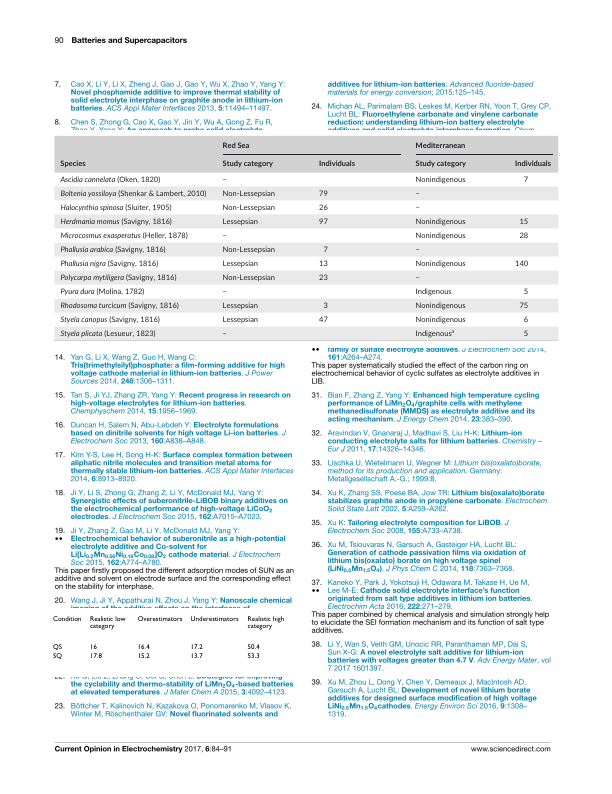borderless: (52, 135, 559, 342), (47, 613, 287, 671)
cell: (59, 188, 206, 200), (59, 230, 188, 242), (59, 300, 179, 312), (59, 272, 177, 284), (59, 202, 172, 214), (59, 216, 172, 228), (59, 244, 166, 256), (59, 174, 160, 186), (59, 314, 160, 326), (59, 258, 158, 270), (59, 328, 156, 340), (59, 286, 144, 298), (414, 139, 465, 152), (221, 188, 275, 200), (221, 202, 275, 214), (221, 244, 275, 256), (221, 272, 275, 284), (221, 158, 273, 170), (414, 158, 466, 170), (414, 174, 466, 186), (414, 216, 466, 228), (414, 230, 466, 242), (414, 258, 466, 270), (414, 300, 466, 312), (414, 314, 466, 326), (246, 615, 285, 631), (88, 615, 126, 631), (414, 327, 454, 340), (414, 286, 452, 298), (189, 615, 239, 624), (221, 216, 258, 228), (221, 258, 258, 270), (221, 300, 258, 312), (221, 314, 258, 326), (136, 615, 183, 624), (221, 139, 250, 152), (59, 158, 86, 170), (317, 160, 355, 168), (513, 160, 551, 168), (52, 615, 82, 624), (317, 188, 328, 200), (317, 202, 328, 214), (317, 216, 328, 228), (136, 643, 150, 652), (189, 643, 203, 652), (246, 643, 260, 652), (88, 652, 102, 661), (136, 652, 150, 661), (189, 652, 203, 661), (246, 652, 260, 661), (513, 261, 528, 268), (52, 643, 62, 652), (52, 652, 62, 661), (88, 643, 97, 652), (317, 261, 328, 268), (317, 275, 328, 282), (317, 317, 328, 324), (522, 314, 528, 326), (518, 219, 528, 226), (518, 233, 528, 240), (518, 303, 528, 310), (221, 177, 227, 184), (522, 177, 528, 184), (414, 191, 420, 198), (414, 205, 420, 212), (221, 233, 227, 240), (322, 247, 328, 254), (414, 247, 420, 254), (414, 275, 420, 282), (221, 289, 227, 296), (522, 289, 528, 296), (322, 303, 328, 310), (221, 331, 227, 338), (522, 331, 528, 338)
